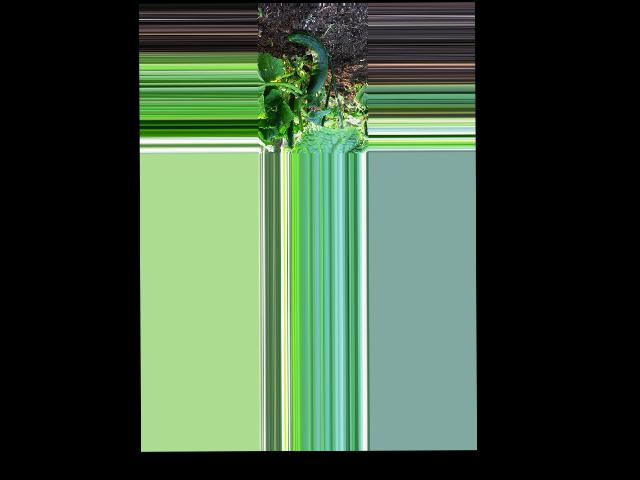cucumber: (287, 30, 328, 96)
